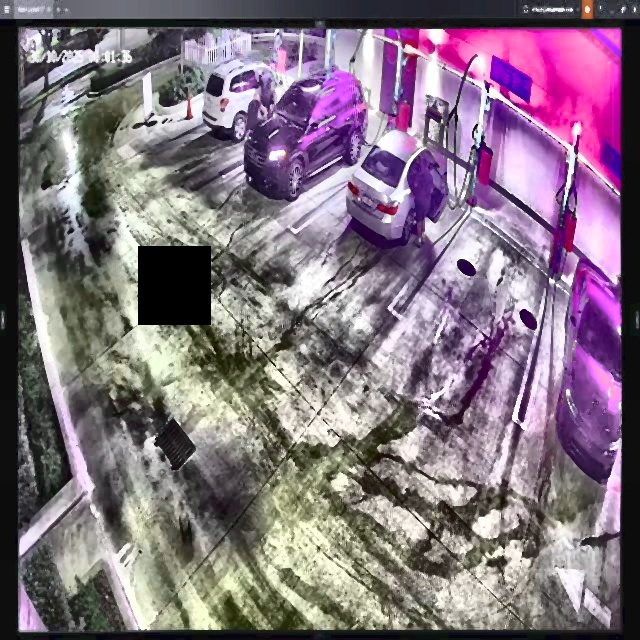Car: (245, 70, 367, 197), (345, 131, 446, 244)
